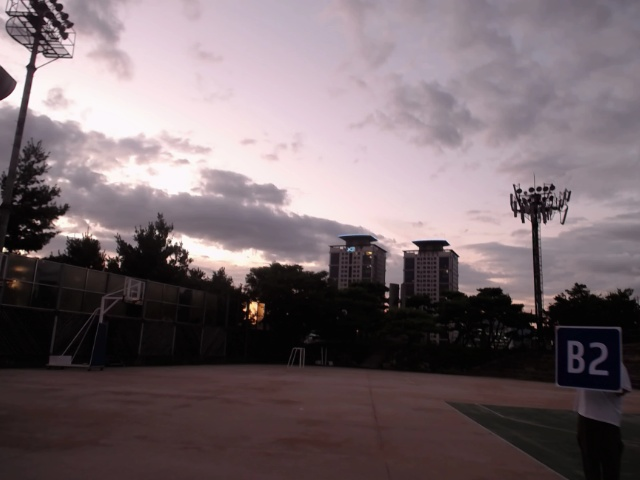delivery_b2: (553, 324, 622, 394)
